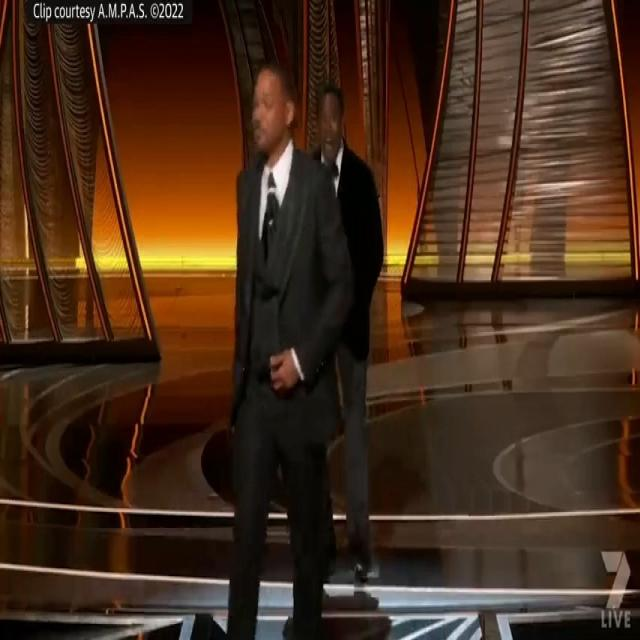non-fight: (222, 67, 384, 640)
